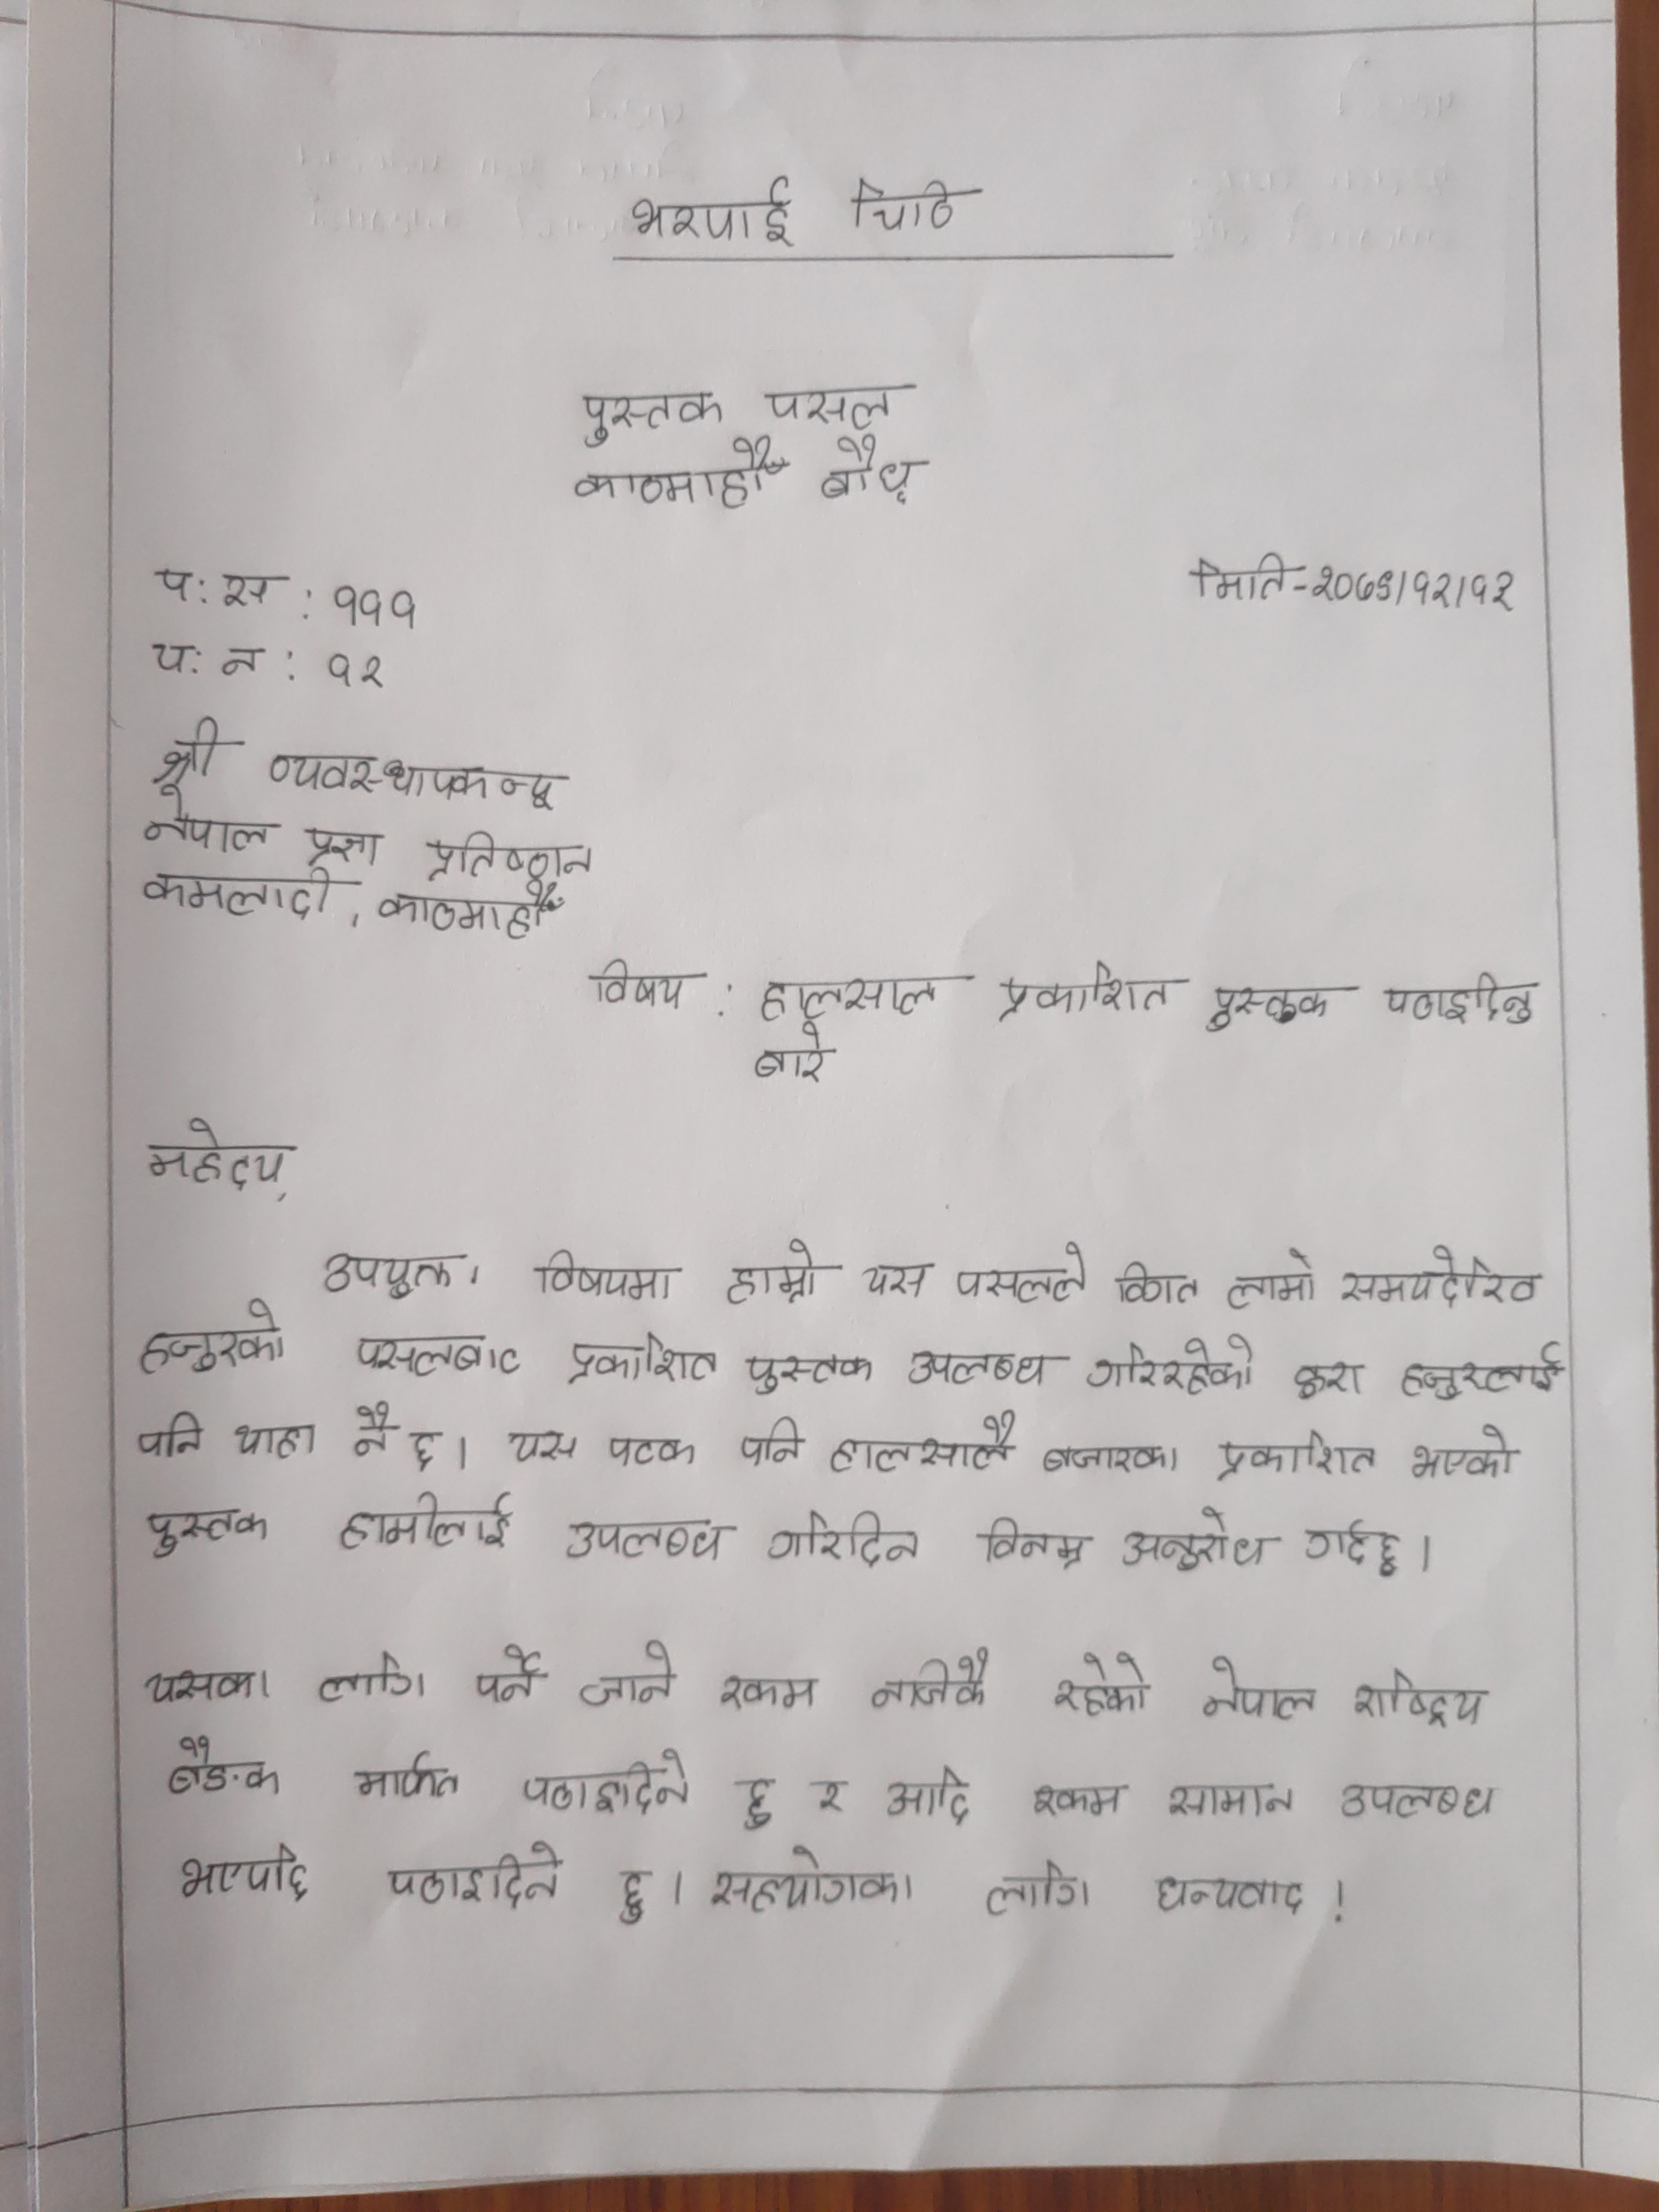text: (268, 744, 561, 813), (708, 1848, 920, 1925), (382, 1838, 577, 1909), (826, 1409, 1025, 1479), (138, 859, 340, 927), (373, 874, 565, 946), (1335, 1247, 1546, 1312), (565, 451, 786, 512), (514, 1745, 690, 1822), (138, 1296, 289, 1383), (626, 176, 798, 251), (333, 1489, 518, 1559), (993, 956, 1180, 1024), (749, 968, 957, 1028), (136, 1120, 305, 1191), (561, 1512, 739, 1576), (1209, 1421, 1380, 1487), (1377, 968, 1551, 1033), (1396, 1339, 1568, 1404), (760, 1505, 922, 1573), (1121, 1501, 1274, 1573), (1087, 1332, 1262, 1395), (1143, 1869, 1314, 1930), (577, 381, 723, 451), (315, 1238, 465, 1306), (1187, 1651, 1323, 1726), (565, 1327, 721, 1392), (1302, 564, 1521, 610), (427, 826, 599, 883), (951, 1238, 1091, 1308), (1349, 1669, 1497, 1733), (1033, 1649, 1169, 1719), (532, 1245, 685, 1306), (153, 1735, 284, 1804), (809, 435, 927, 512), (173, 1844, 317, 1907), (1201, 977, 1344, 1040), (1335, 1778, 1506, 1831), (568, 1637, 687, 1712), (146, 784, 270, 855), (136, 1505, 277, 1566), (1295, 1505, 1406, 1581), (866, 1648, 995, 1714), (976, 1507, 1098, 1576), (716, 1235, 824, 1313), (976, 1855, 1100, 1923), (136, 1656, 281, 1714), (347, 1334, 530, 1379), (765, 378, 917, 432), (1039, 1432, 1183, 1487), (742, 1346, 880, 1402), (845, 171, 967, 233), (906, 1343, 1065, 1390), (1406, 1423, 1521, 1487), (713, 1665, 830, 1724), (148, 629, 272, 685), (345, 1752, 469, 1808), (1180, 543, 1290, 606), (1218, 1251, 1328, 1312), (885, 1761, 983, 1829), (1159, 1773, 1297, 1820), (153, 563, 277, 615), (1019, 1778, 1134, 1832), (586, 958, 695, 1014), (319, 1649, 430, 1703), (469, 1639, 551, 1710), (150, 714, 228, 787), (291, 819, 396, 873), (1114, 1252, 1204, 1313), (732, 1416, 816, 1479), (751, 1028, 835, 1089), (230, 1413, 321, 1468), (329, 583, 425, 632), (861, 1256, 945, 1312), (601, 1428, 699, 1475), (498, 1420, 586, 1472), (134, 1407, 211, 1467), (1283, 1350, 1368, 1402), (342, 1393, 403, 1460), (730, 1773, 786, 1841), (610, 1858, 657, 1933), (328, 646, 392, 693), (809, 1770, 856, 1820), (404, 1426, 443, 1480)
